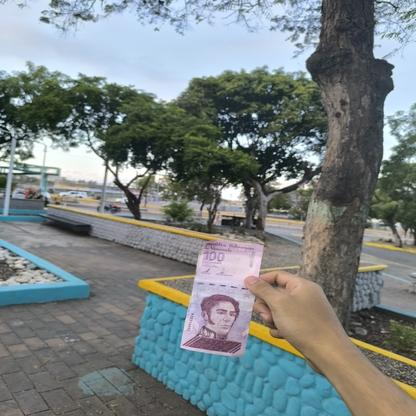one_hundred-front-vef: (180, 238, 264, 356)
